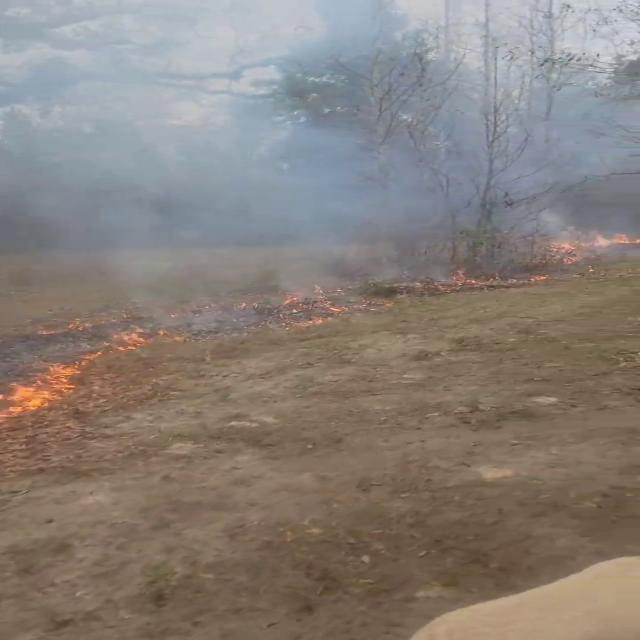Fire: (0, 354, 100, 422), (542, 224, 640, 262)
Smoke: (3, 1, 640, 326)
